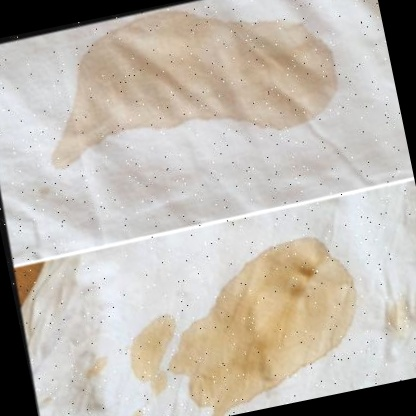coffee: (62, 13, 321, 142), (232, 269, 345, 359), (180, 324, 251, 406)
